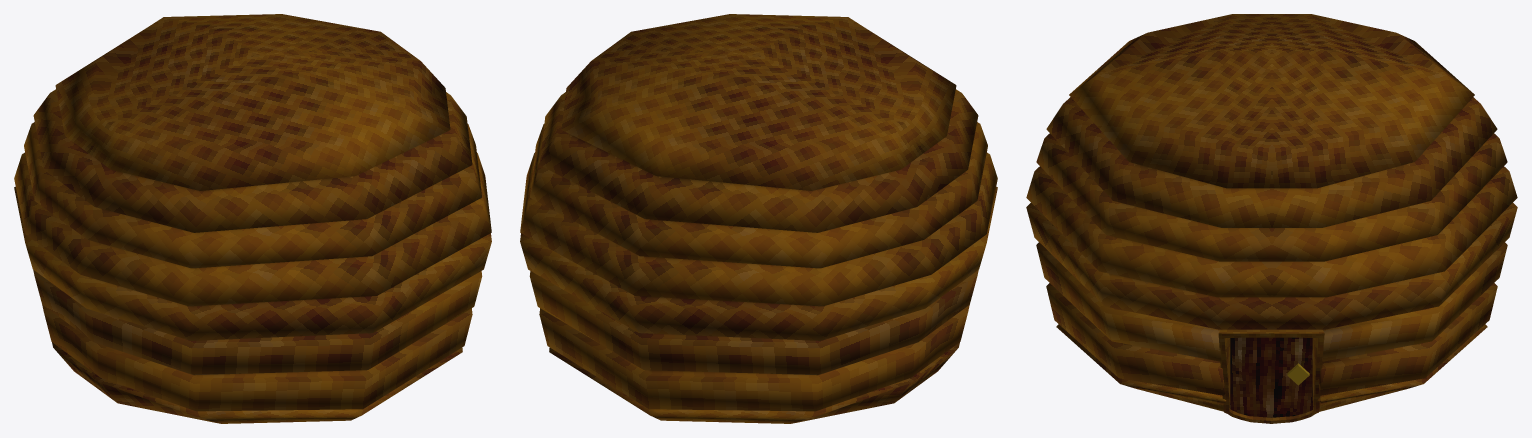
The model's file is BeeHouse.gltf.
3 renders of one model, left to right at view 1: azimuth 30°, elevation 25°; view 2: azimuth 150°, elevation 25°; view 3: azimuth 270°, elevation 25°, orthographic.
Visible parts, largest first — view 1: BeeHive; view 2: BeeHive; view 3: BeeHive, Door, DoorFrame.
Part boxes in pixels (<box>): BeeHive: <box>14,14,491,423</box>; BeeHive: <box>520,14,997,423</box>; BeeHive: <box>1026,14,1517,411</box>; Door: <box>1230,337,1313,417</box>; DoorFrame: <box>1218,329,1324,423</box>.
Size of the model in its own units: 5.31 by 3.71 by 5.65.
3 materials, 3 textured.
